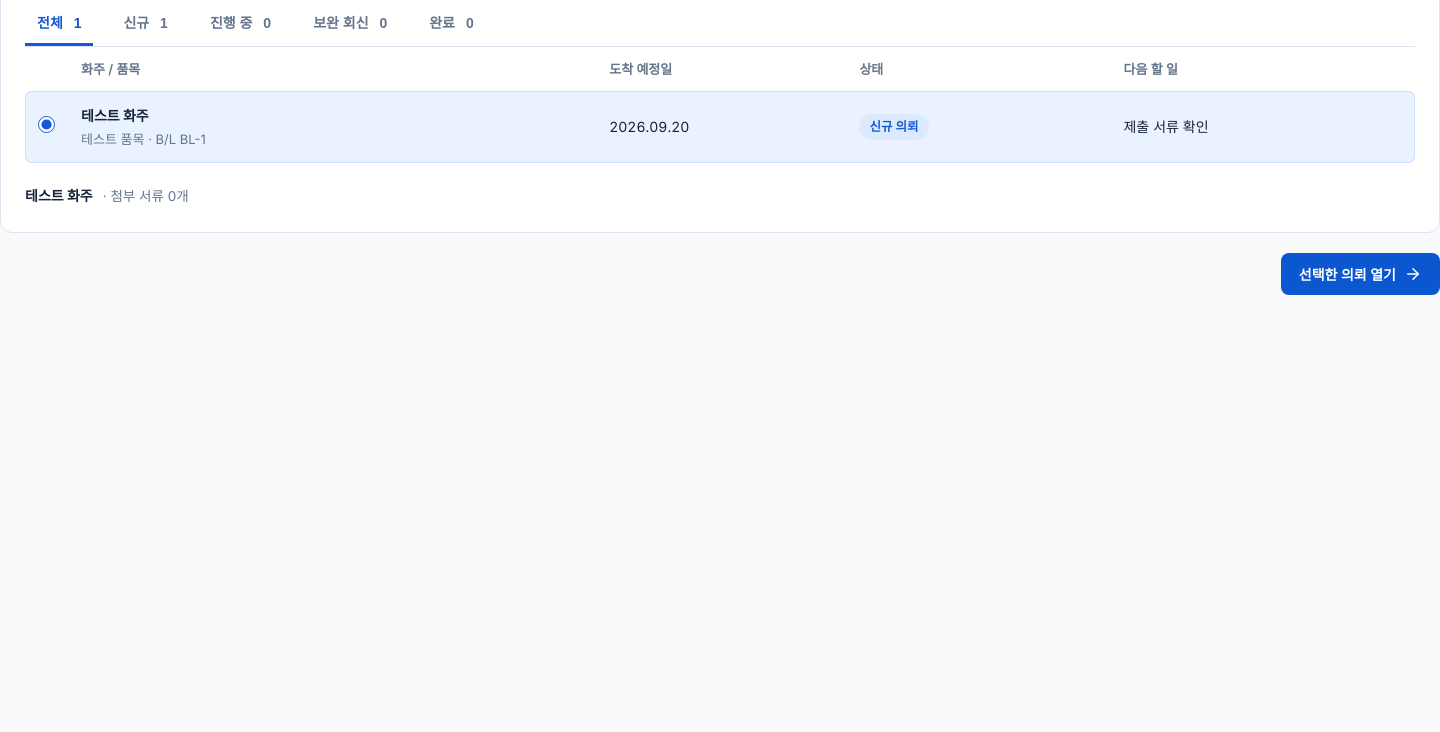
Test case: forwarder task tabs › has three distinct task tabs and keeps comparison evidence with the issue
Step 1. Click the button "선택한 의뢰 열기" → (1360, 274), box [1281,253,1439,295]
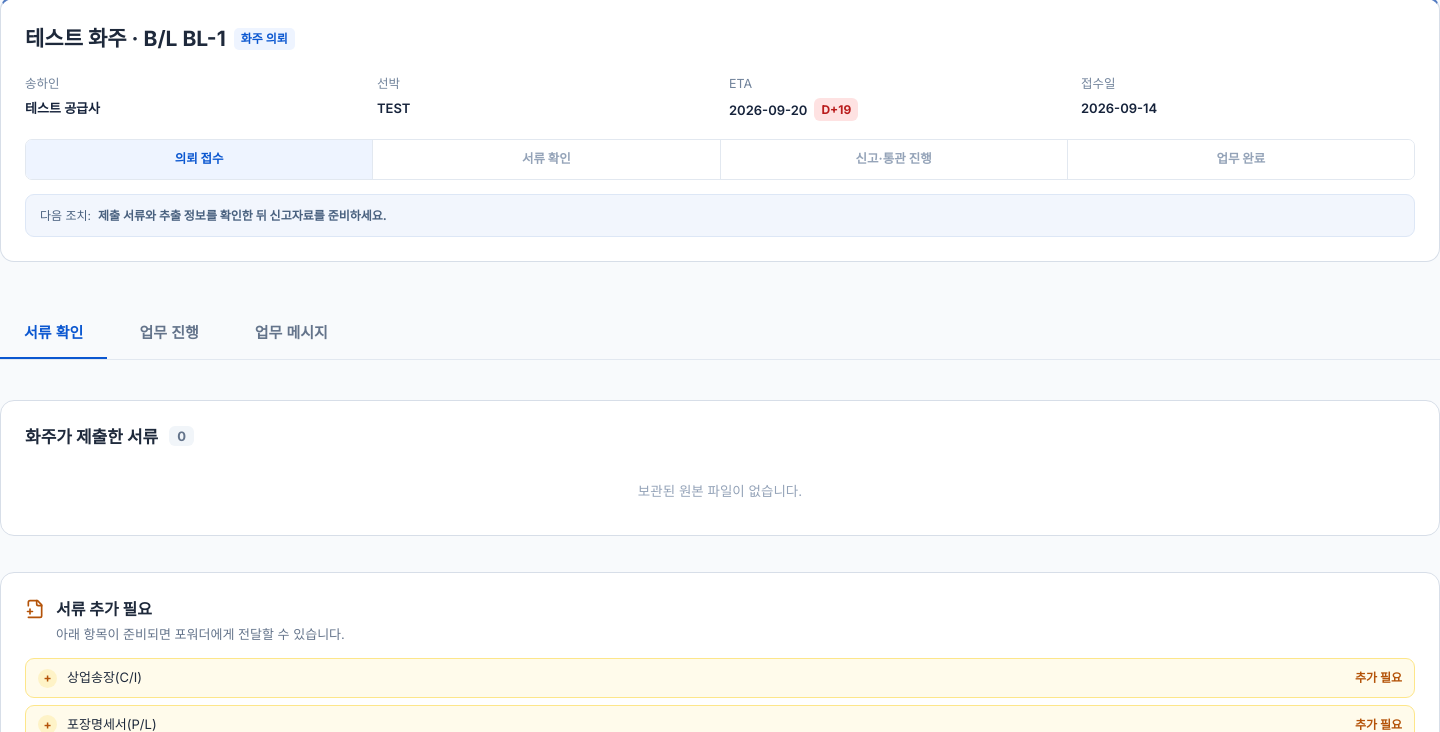
Now the text "화주가 제출한 서류" is shown, box [25,427,162,447]
Step 2. Click the button "업무 진행" → (169, 333), box [115,306,223,359]
(page scrolled)
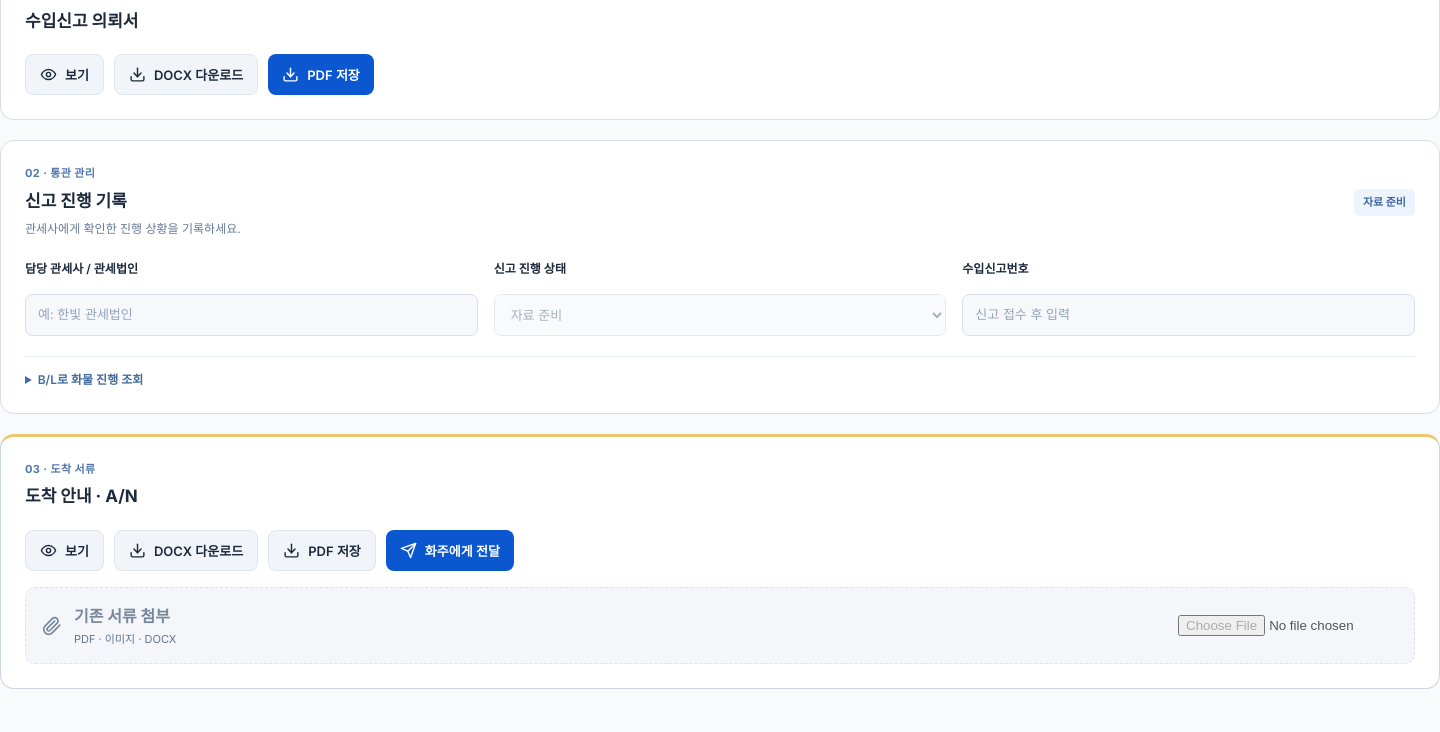
Now the text "도착 안내 · A/N" is shown, box [25,484,138,510]
Now the button "보기" below "도착 안내 · A/N" is enabled, box [25,530,104,571]
Now the button "DOCX 다운로드" below "도착 안내 · A/N" is disabled
Step 3. Click the button "DOCX 다운로드" below "도착 안내 · A/N" → (186, 550), box [114,530,258,571]
(page scrolled)
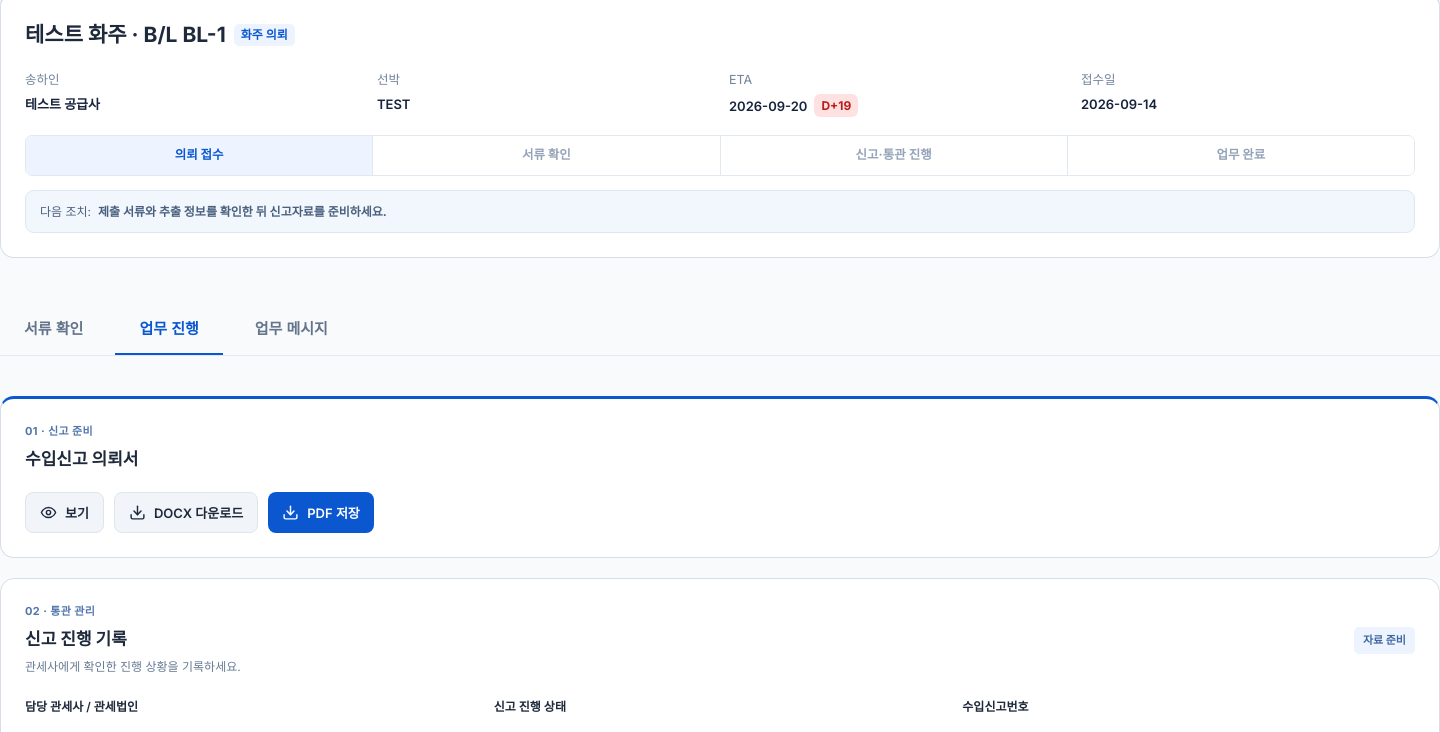
Step 4. Click the button "업무 메시지" → (291, 329), box [231,302,352,355]
(page scrolled)
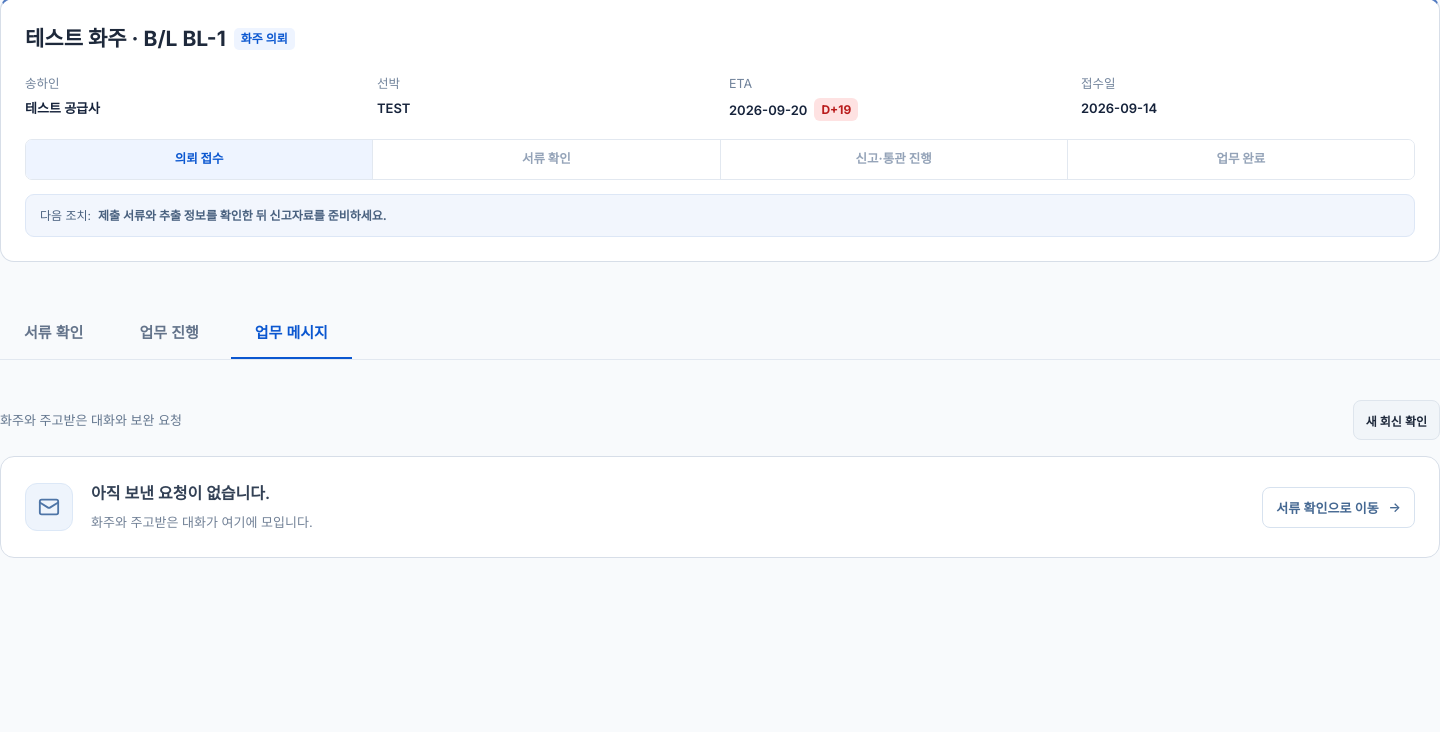
Now the text "아직 보낸 요청이 없습니다." is shown, box [91,483,270,503]
